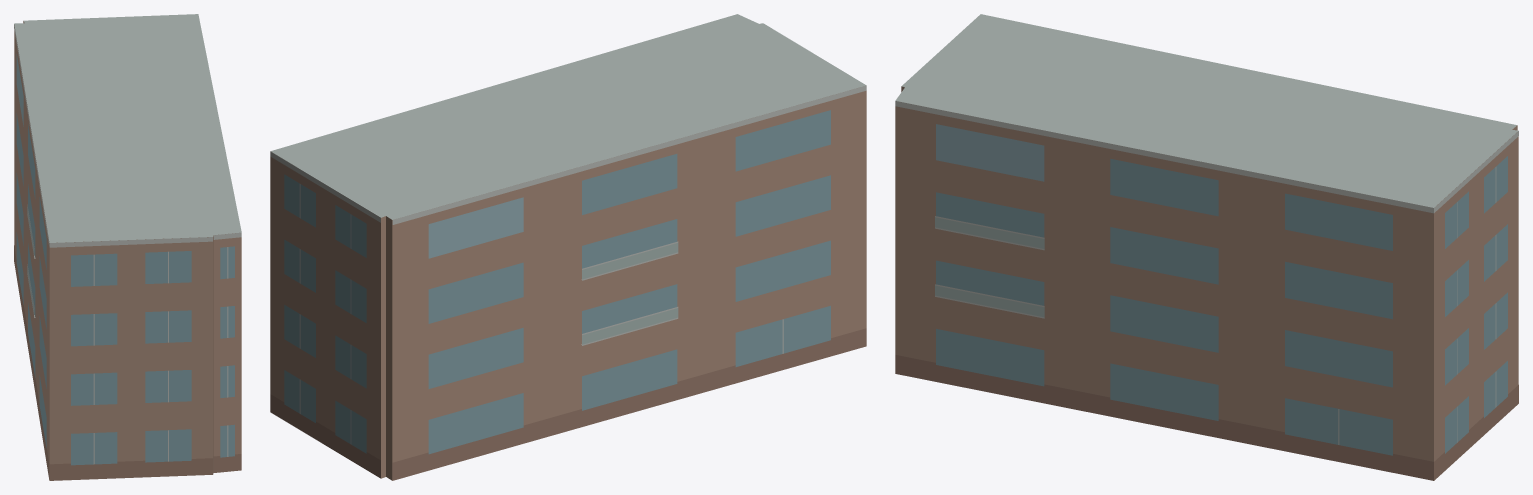
File: survey-upis-32631634.glb
3 renders of one model, left to right at view 1: azimuth 30°, elevation 25°; view 2: azimuth 150°, elevation 25°; view 3: azimuth 270°, elevation 25°, orthographic. The views are drawn at different scales.
Parts seen in each view (by area): view 1: survey-upis-32631634.tmp; view 2: survey-upis-32631634.tmp; view 3: survey-upis-32631634.tmp.
Boxes of the visible parts, left/top/right/bottom form: survey-upis-32631634.tmp: left=14, top=14, right=241, bottom=480; survey-upis-32631634.tmp: left=270, top=14, right=866, bottom=480; survey-upis-32631634.tmp: left=895, top=14, right=1518, bottom=480.
Size of the model in its own units: 18.75 by 12.3 by 25.48.
